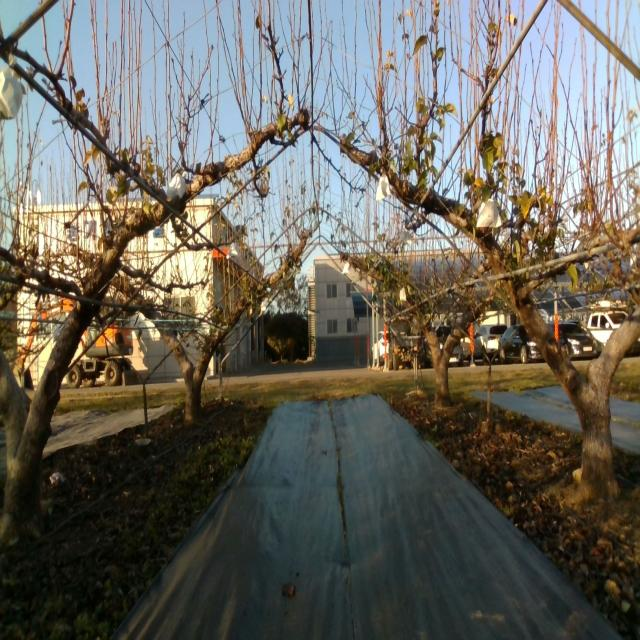pearbags: (0, 52, 24, 122), (476, 198, 502, 228), (166, 171, 187, 202), (375, 173, 391, 202), (226, 242, 242, 265), (398, 226, 412, 247)
